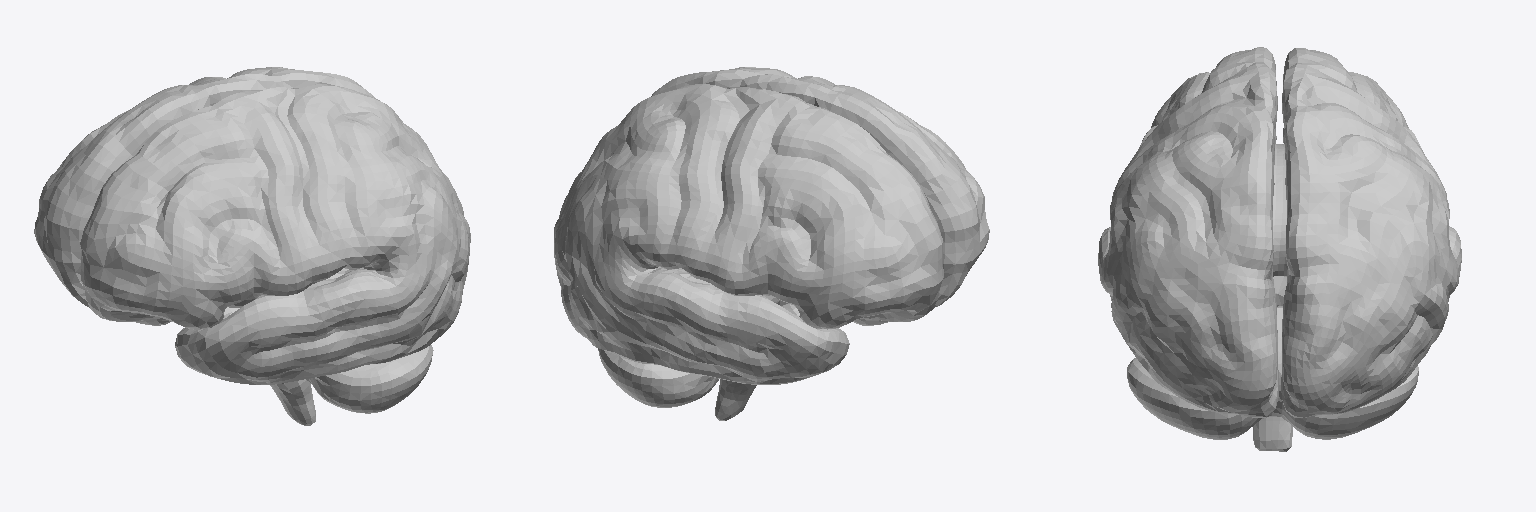
Rendered from Brain_Med_Poly.OBJ.
3 views of the same model, side by side, from view 1: azimuth 30°, elevation 25°; view 2: azimuth 150°, elevation 25°; view 3: azimuth 270°, elevation 25° (orthographic).
Parts seen in each view (by area): view 1: ZBrush_defualt_group, Group1; view 2: ZBrush_defualt_group, Group1; view 3: ZBrush_defualt_group, Group1.
Boxes of the visible parts, <box> form: ZBrush_defualt_group: <box>34,67,470,384</box>; Group1: <box>229,295,433,425</box>; ZBrush_defualt_group: <box>554,67,989,384</box>; Group1: <box>598,295,787,420</box>; ZBrush_defualt_group: <box>1098,47,1461,417</box>; Group1: <box>1127,276,1418,451</box>.
Bounding box in the file's own units: 6.33 × 5.54 × 5.25.